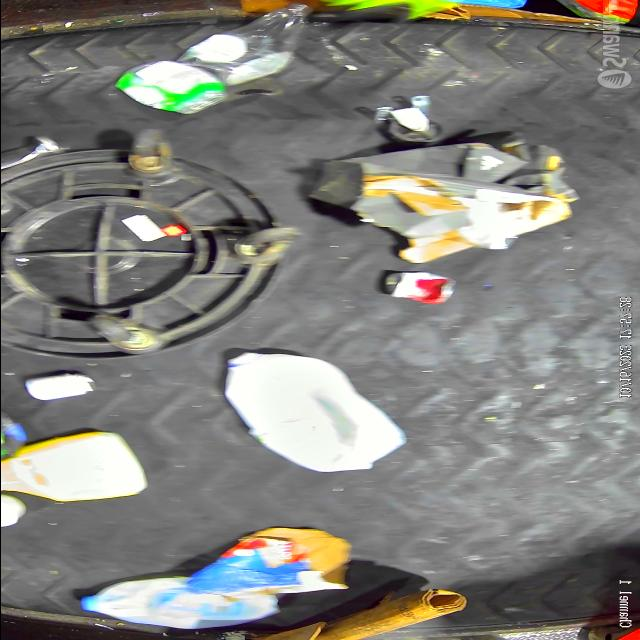can: (113, 60, 228, 114), (384, 271, 456, 305), (23, 374, 97, 402)
milk_jug: (222, 352, 406, 472), (80, 576, 280, 630), (0, 431, 148, 503)
plastic_bottle: (174, 2, 310, 86)
